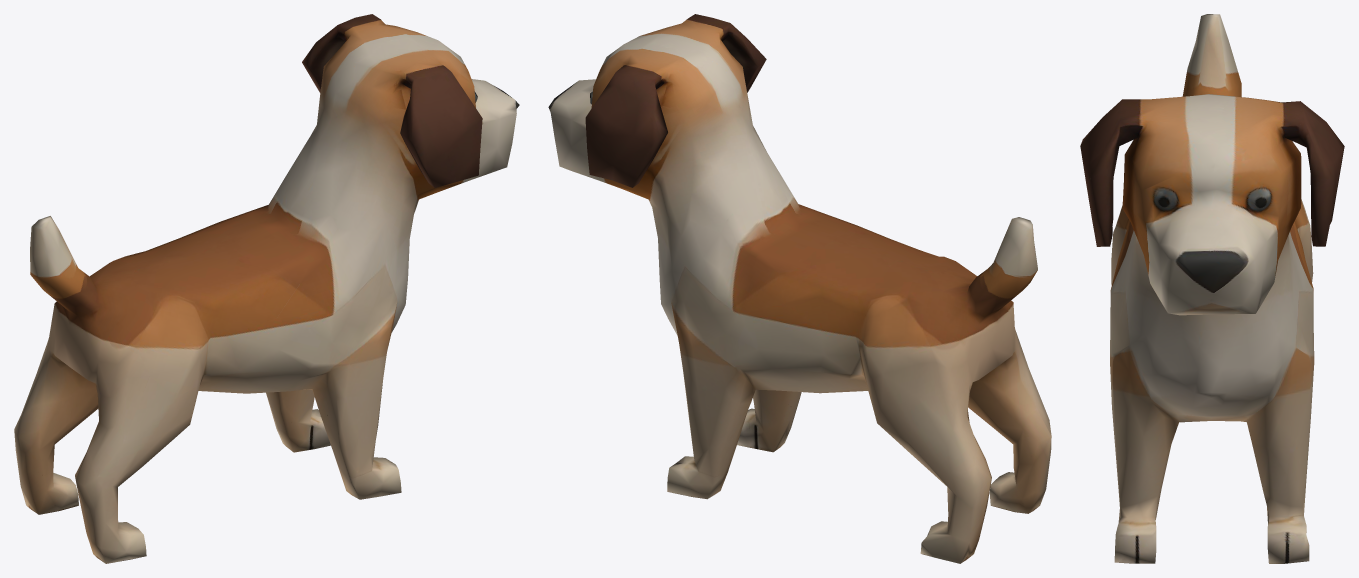
File: tripo_convert_331e3f95-830c-48d4-9354-4d4c24f17d7d.fbx
3 views of the same model, side by side, from view 1: azimuth 30°, elevation 25°; view 2: azimuth 150°, elevation 25°; view 3: azimuth 270°, elevation 25° (orthographic). The views are drawn at different scales.
Visible parts, largest first — view 1: tripo_node_331e3f95; view 2: tripo_node_331e3f95; view 3: tripo_node_331e3f95.
Boxes of the visible parts, x1=… form: tripo_node_331e3f95: x1=14, y1=14, x2=519, y2=563; tripo_node_331e3f95: x1=548, y1=14, x2=1051, y2=563; tripo_node_331e3f95: x1=1080, y1=14, x2=1344, y2=563.
Bounding box in the file's own units: 0.9982 × 0.8238 × 0.4137.
Materials: 1 (1 with a texture image).
